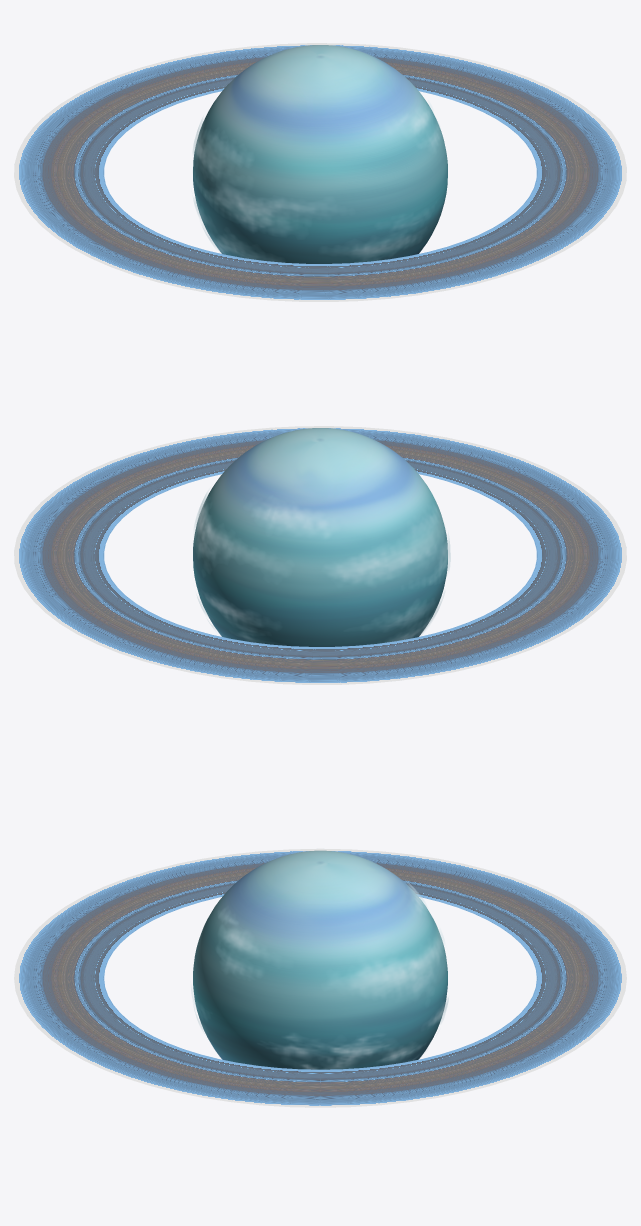
Rendered from Uranus.glb.
3 views of the same model, one above another, from view 1: azimuth 30°, elevation 25°; view 2: azimuth 150°, elevation 25°; view 3: azimuth 270°, elevation 25° (orthographic).
Visible parts, largest first — view 1: Rings.001, Uranus_Globe.001, Uranus_Clouds.001; view 2: Rings.001, Uranus_Globe.001, Uranus_Clouds.001; view 3: Rings.001, Uranus_Globe.001, Uranus_Clouds.001.
Boxes of the visible parts, box(x1,y1,x2,y2) form: Rings.001: box(14, 43, 626, 301); Uranus_Globe.001: box(193, 45, 447, 263); Uranus_Clouds.001: box(193, 105, 440, 261); Rings.001: box(14, 426, 626, 684); Uranus_Globe.001: box(193, 428, 447, 646); Uranus_Clouds.001: box(194, 492, 450, 641); Rings.001: box(14, 848, 626, 1107); Uranus_Globe.001: box(193, 850, 447, 1069); Uranus_Clouds.001: box(191, 881, 448, 1069).
Bounding box in the file's own units: 2 × 1.28 × 2.
Materials: 4 (4 with a texture image).
